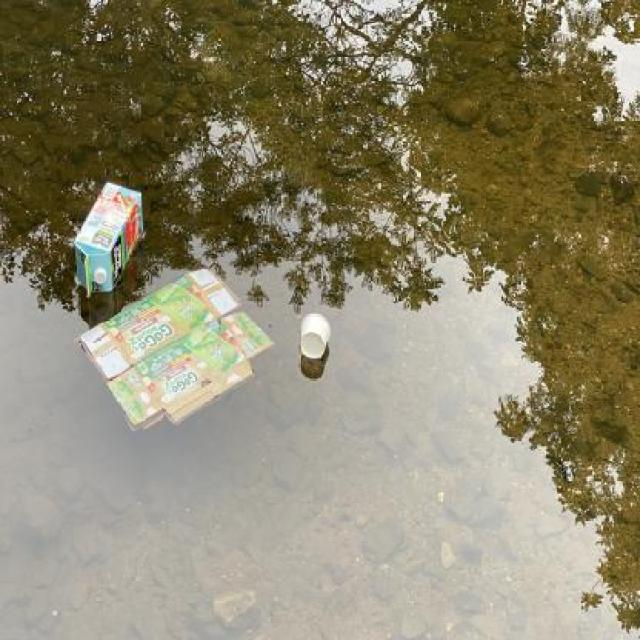Cardboard: (71, 261, 280, 439), (72, 176, 148, 304)
Paper: (291, 310, 335, 368)
